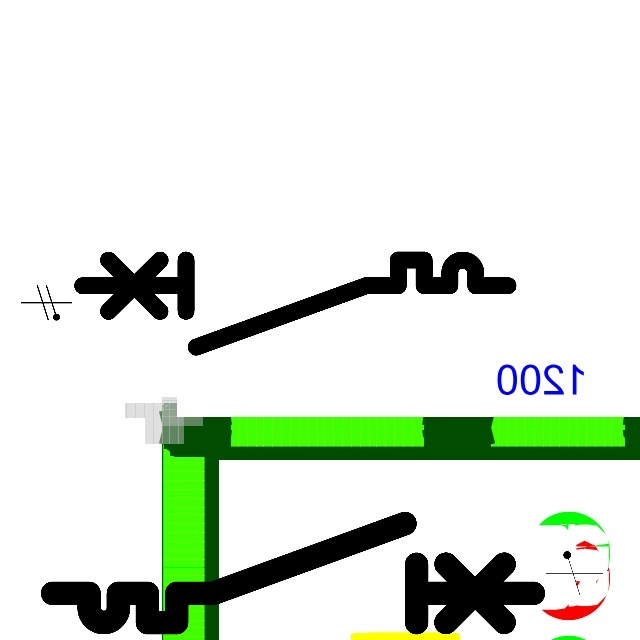interruptor_termomagnetico: (40, 511, 546, 635), (71, 249, 518, 358)
